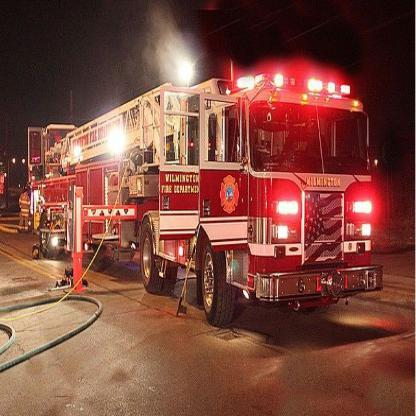fire-truck: (28, 26, 405, 356)
